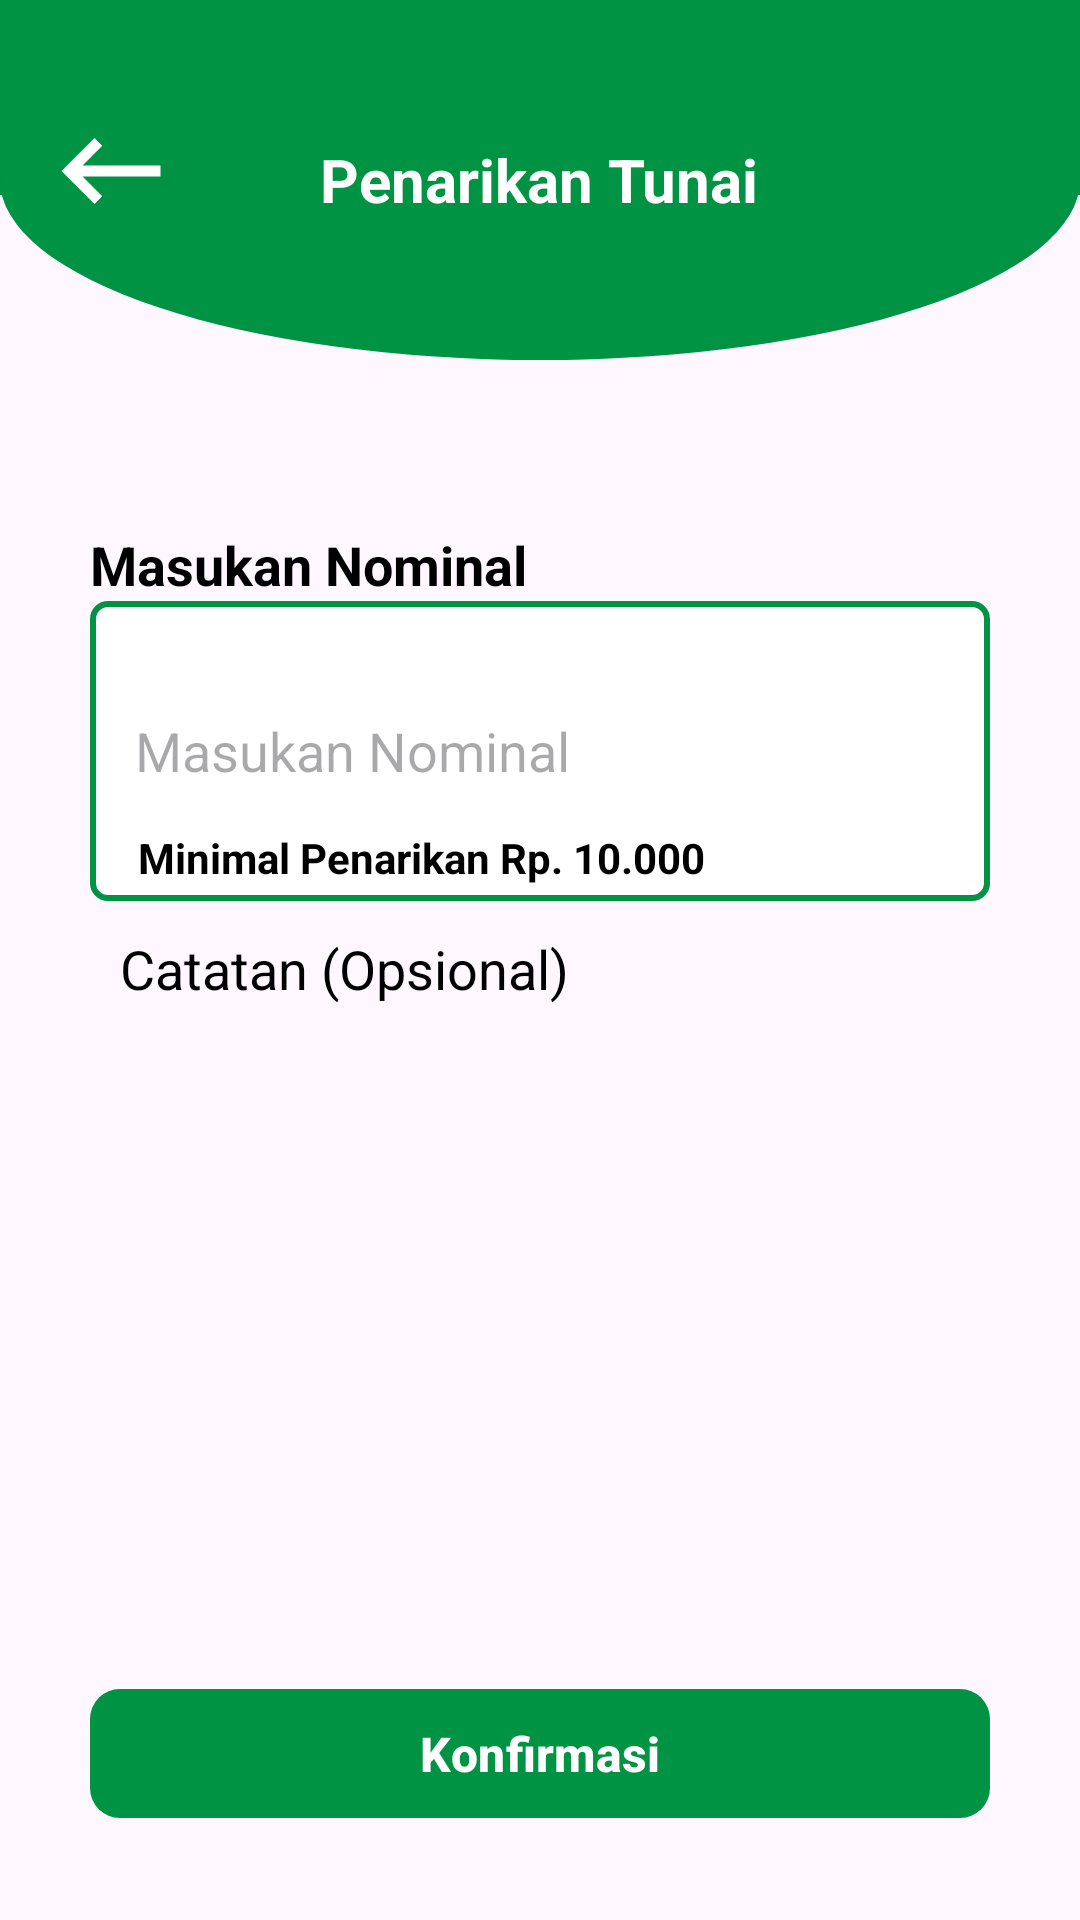

Named icons in this screenshot (1080 x 1920) and their centers, (x,y):
keyboard backspace: (111,171)
